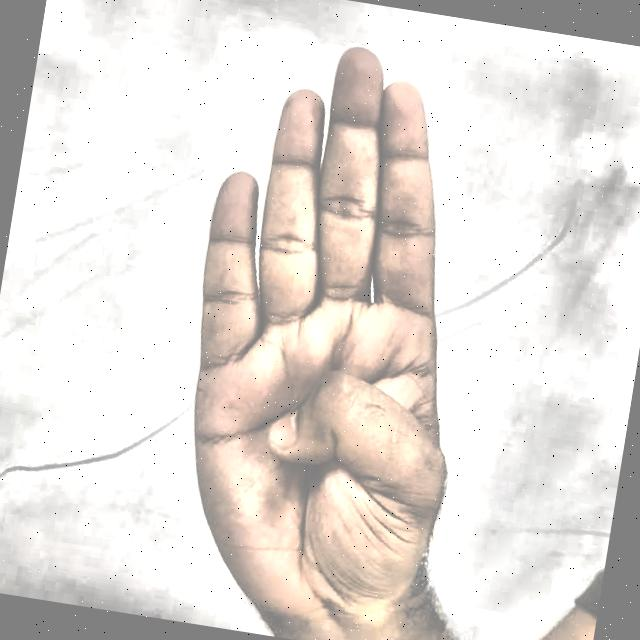Ba: (117, 10, 551, 640)
